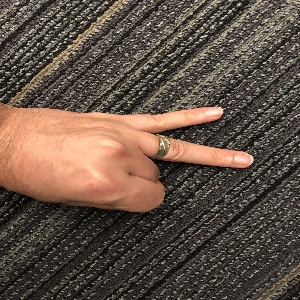hand: (9, 107, 254, 213)
